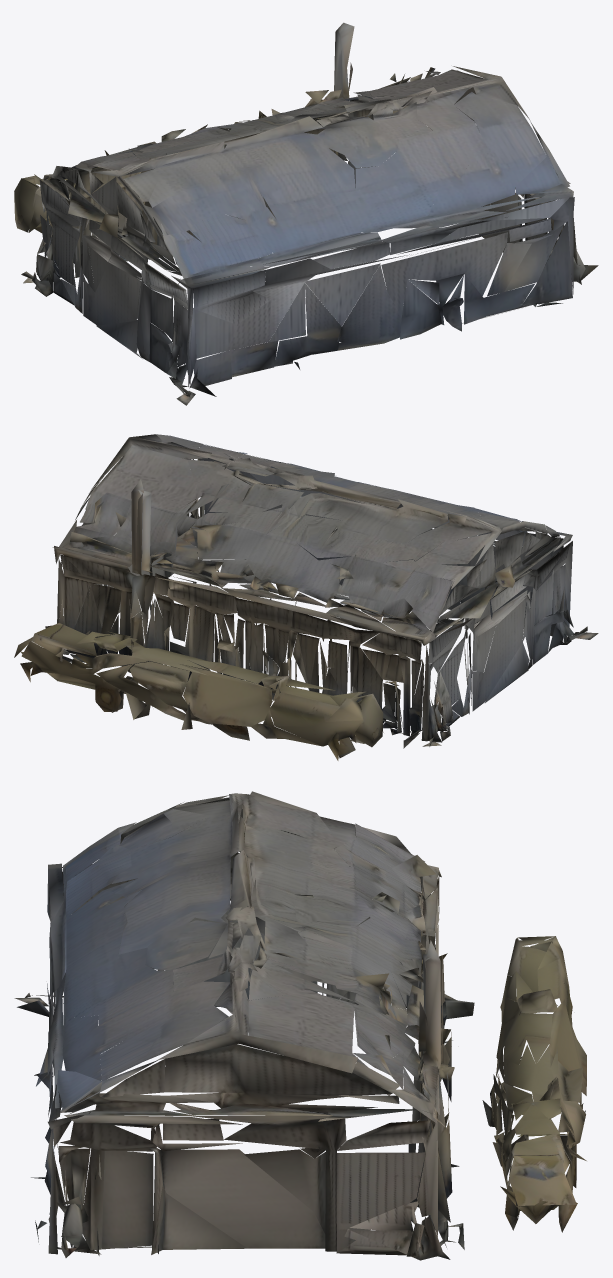
File: tank_factory_lod1.glb
The picture shows the model from 3 angles, top to bottom: view 1: azimuth 30°, elevation 25°; view 2: azimuth 150°, elevation 25°; view 3: azimuth 270°, elevation 25°; orthographic projection. The views are drawn at different scales.
Parts seen in each view (by area): view 1: body; view 2: body; view 3: body.
Part boxes in pixels (x1=…): body: x1=14, y1=22, x2=598, y2=405; body: x1=14, y1=434, x2=598, y2=760; body: x1=14, y1=791, x2=586, y2=1260.
Bounding box in the file's own units: 15.15 × 6.85 × 13.42.
Materials: 1 (1 with a texture image).
